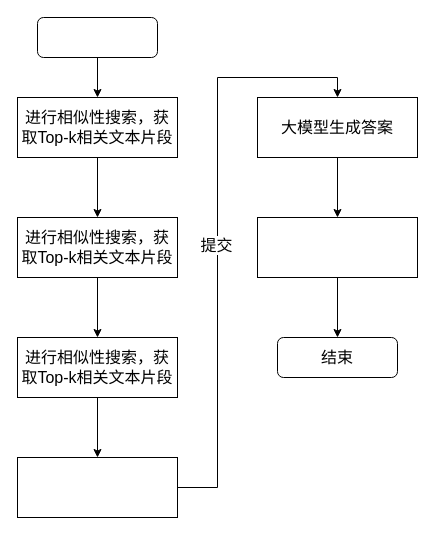
The diagram is 435 pixels wide and 535 high, and some of its shapes have lost their labels. Each missing label, with the centre of its shape:
"对答案进程处理返回给用户" belongs at (337,247).
"将原始问题+检索到的文本组成增强的Prompt" belongs at (97,487).
"开始" belongs at (97,37).
